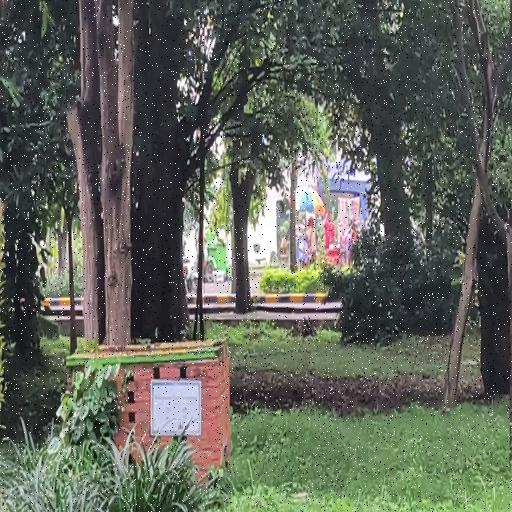Motor: (183, 259, 198, 293)
